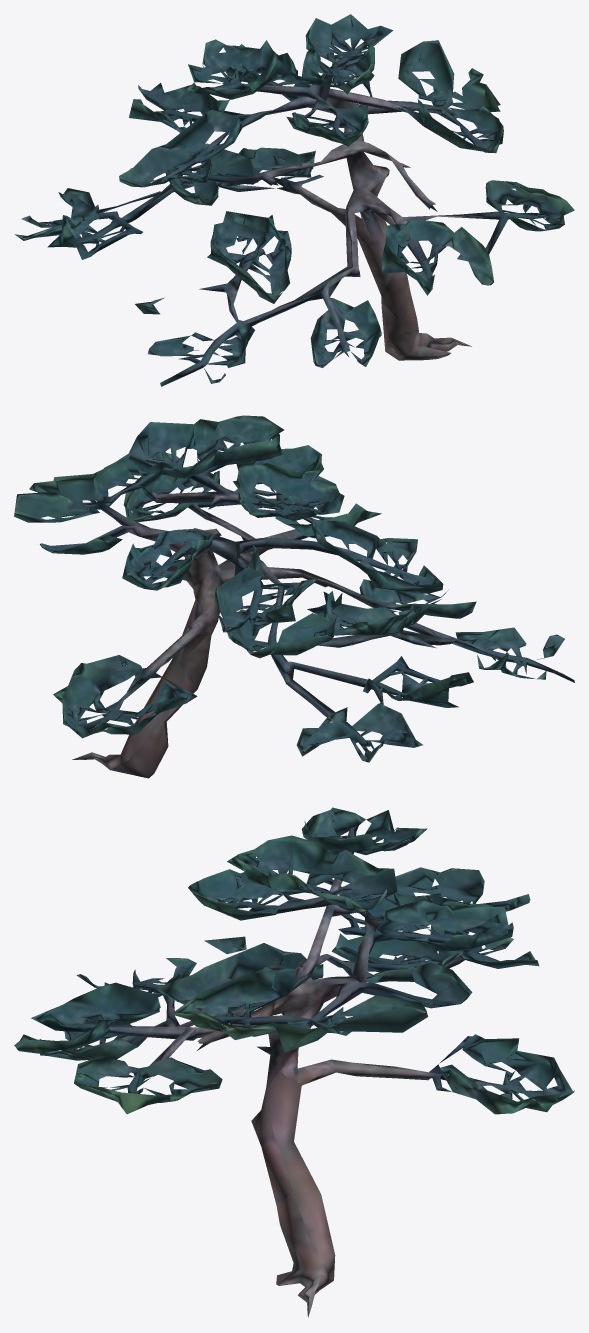
Rendered from pine_guest.lod1.glb.
The picture shows the model from 3 angles, top to bottom: view 1: azimuth 30°, elevation 25°; view 2: azimuth 150°, elevation 25°; view 3: azimuth 270°, elevation 25°; orthographic projection. The views are drawn at different scales.
Parts seen in each view (by area): view 1: tripo_node_5d9b604e-8138-482f-a57a-08df7db635b6; view 2: tripo_node_5d9b604e-8138-482f-a57a-08df7db635b6; view 3: tripo_node_5d9b604e-8138-482f-a57a-08df7db635b6.
Part boxes in pixels (x1=…): tripo_node_5d9b604e-8138-482f-a57a-08df7db635b6: x1=14, y1=14, x2=574, y2=386; tripo_node_5d9b604e-8138-482f-a57a-08df7db635b6: x1=14, y1=415, x2=574, y2=778; tripo_node_5d9b604e-8138-482f-a57a-08df7db635b6: x1=14, y1=807, x2=574, y2=1317.
Size of the model in its own units: 0.9627 by 0.7393 by 0.9754.
1 material, 1 textured.
